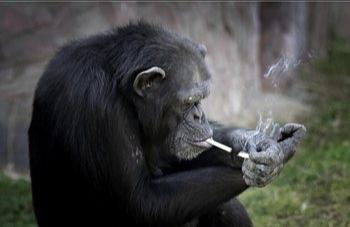Cigarette: (206, 137, 249, 158)
